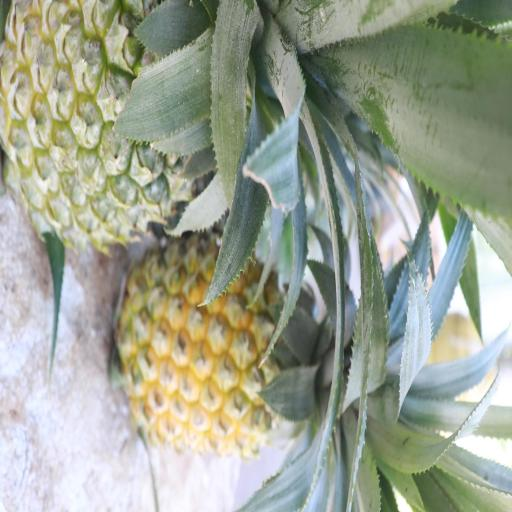------------------------------: (2, 0, 308, 238)
Pineapple - v8 v1: (118, 245, 377, 458)
